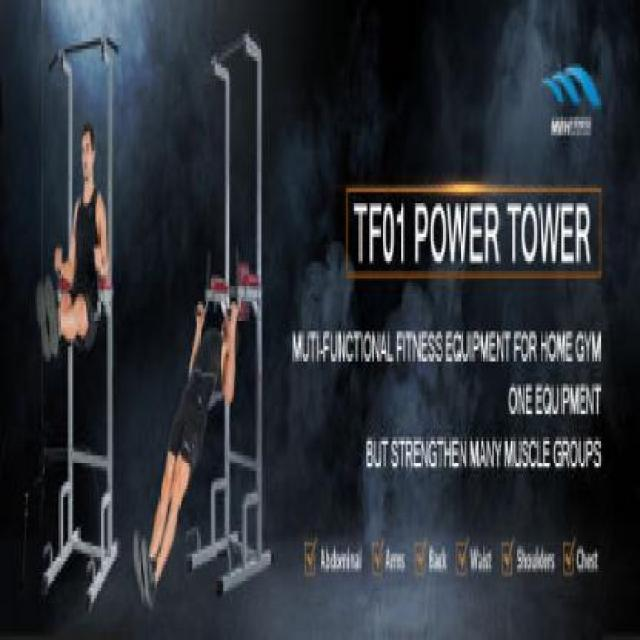chinning dipping: (42, 34, 120, 609)
